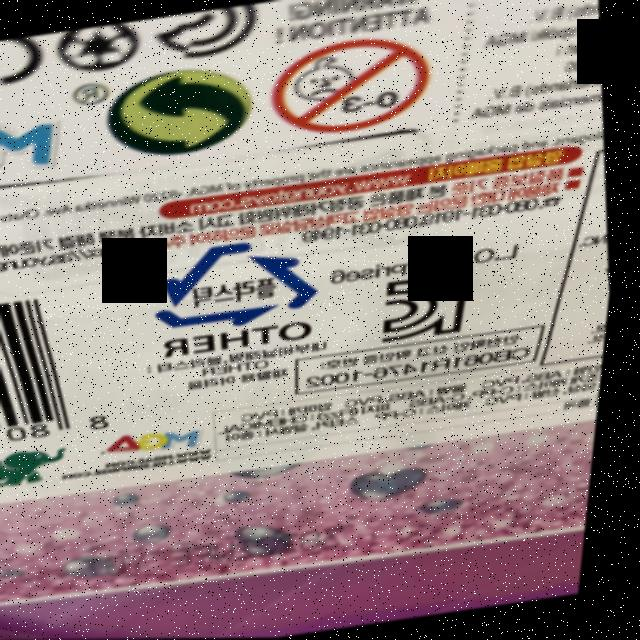Plastic: (148, 228, 334, 341)
